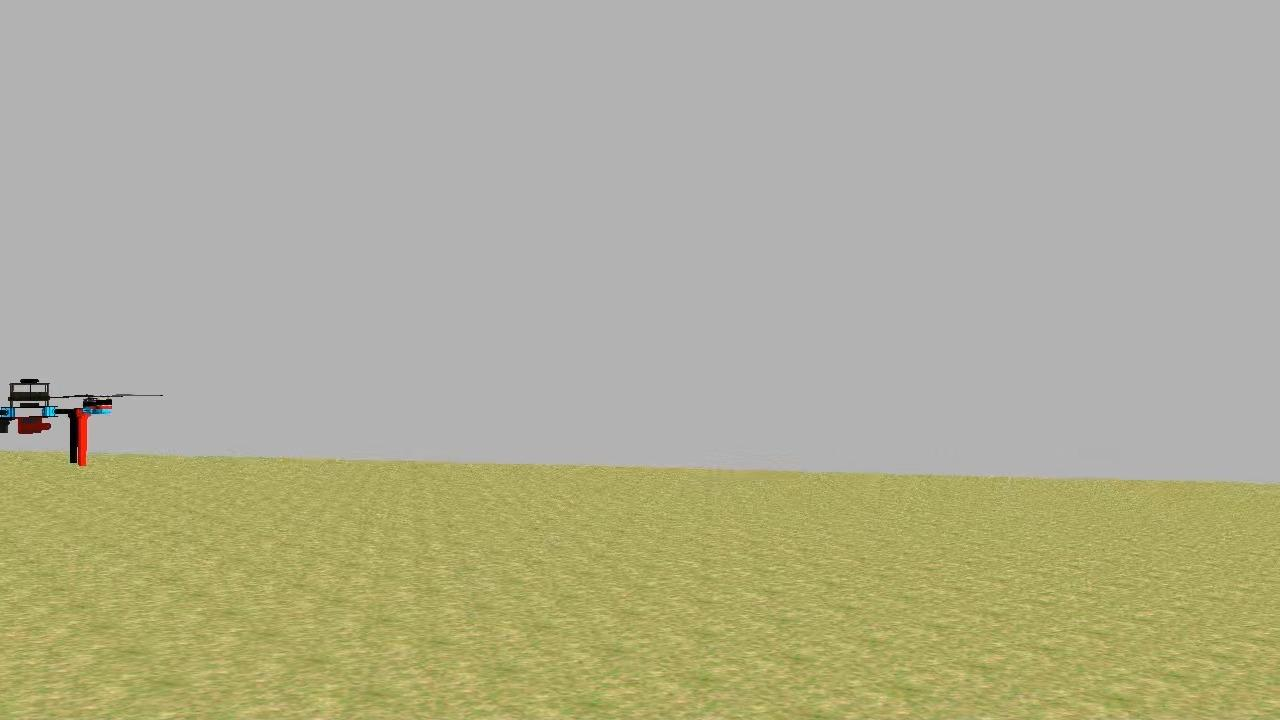UAV: (0, 370, 126, 474)
